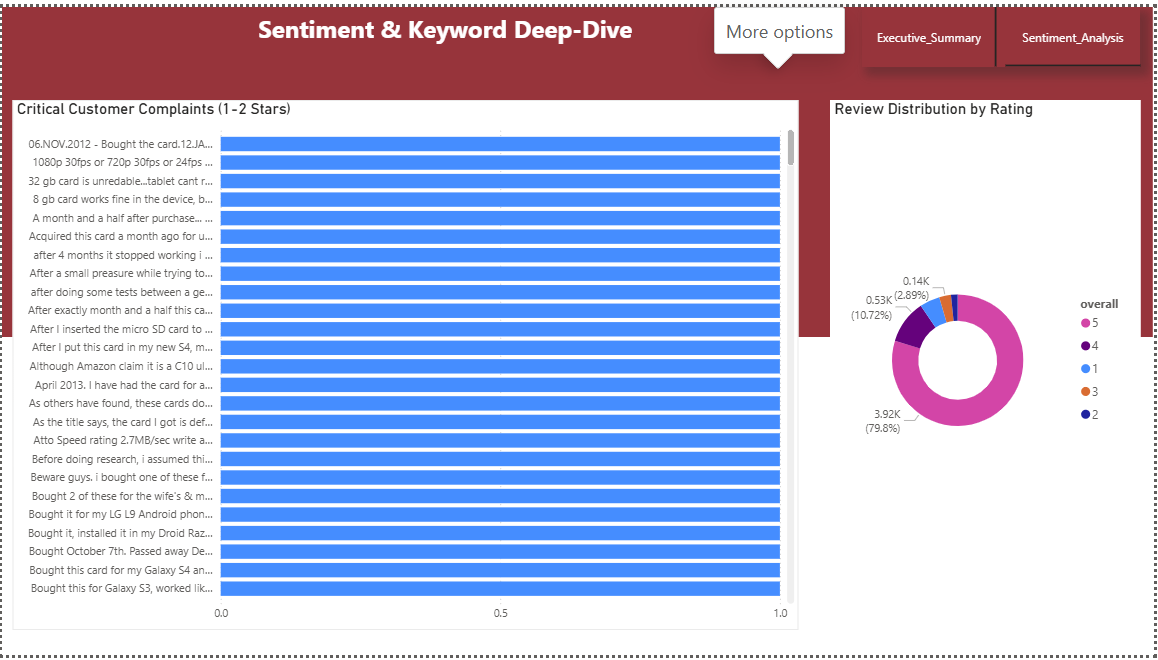

The dashboard page shown, as its layout file describes it:
{"tool":"powerbi","page":{"name":"Sentiment_Analysis","canvas":[1280,720],"ordinal":1},"visuals":[{"type":"textbox","box":[0,0,1278.3,366.7],"z":0},{"type":"clusteredBarChart","title":"Critical Customer Complaints (1-2 Stars)","fields":{"Category":["amazon_reviews.reviewText"],"Y":["CountNonNull(amazon_reviews.Column1)"]},"box":[11.7,103.3,873.3,588.3],"z":1000},{"type":"donutChart","title":"Review Distribution by Rating","fields":{"Category":["amazon_reviews.overall"],"Y":["CountNonNull(amazon_reviews.overall)"]},"box":[920,103.3,345,558.3],"z":2000},{"type":"pageNavigator","box":[955,0,310,66.7],"z":3000},{"type":"textbox","box":[100,0,785,66.7],"z":4000}]}

Visuals, with their boxes in screenshot pixels (x1, y1, x2, y2), scaled from the page's 1280x720 canvas onto the 1158x660 screenshot:
textbox: (0,0,1156,336)
"Critical Customer Complaints (1-2 Stars)" clusteredBarChart: (11,95,801,634)
"Review Distribution by Rating" donutChart: (832,95,1144,606)
pageNavigator: (864,0,1144,61)
textbox: (90,0,801,61)
